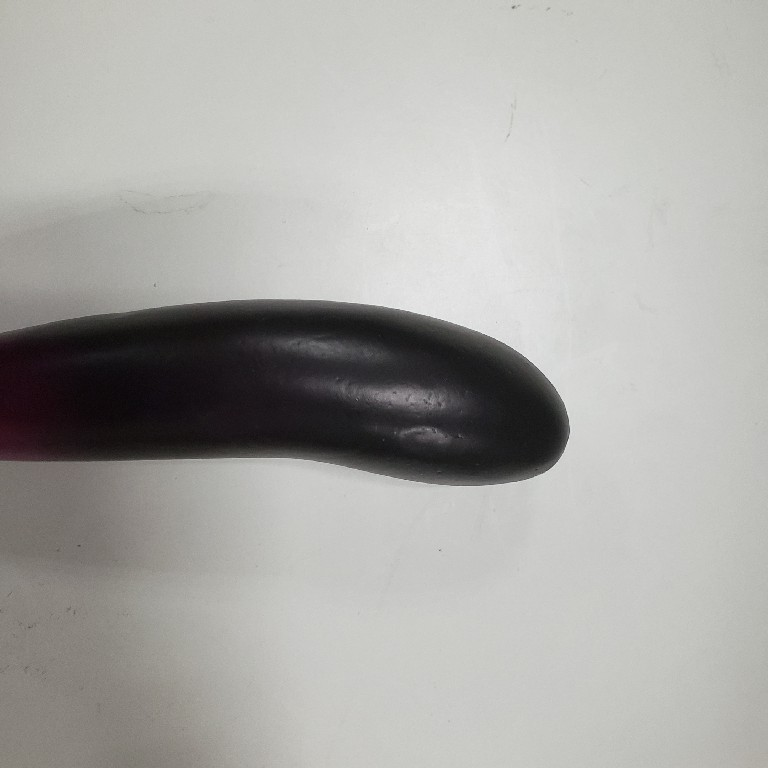fruit_eggplant: (1, 295, 575, 494)
